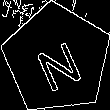N_NW: (29, 28, 85, 90)
